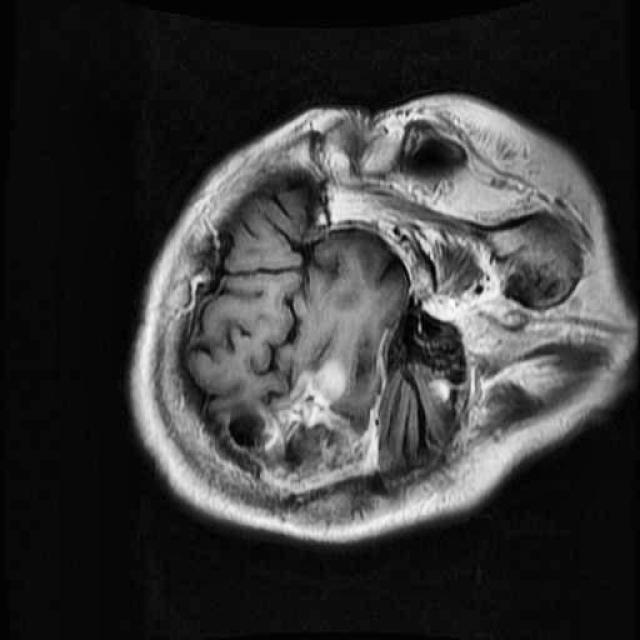Non-Tumor: (211, 354, 408, 508)
